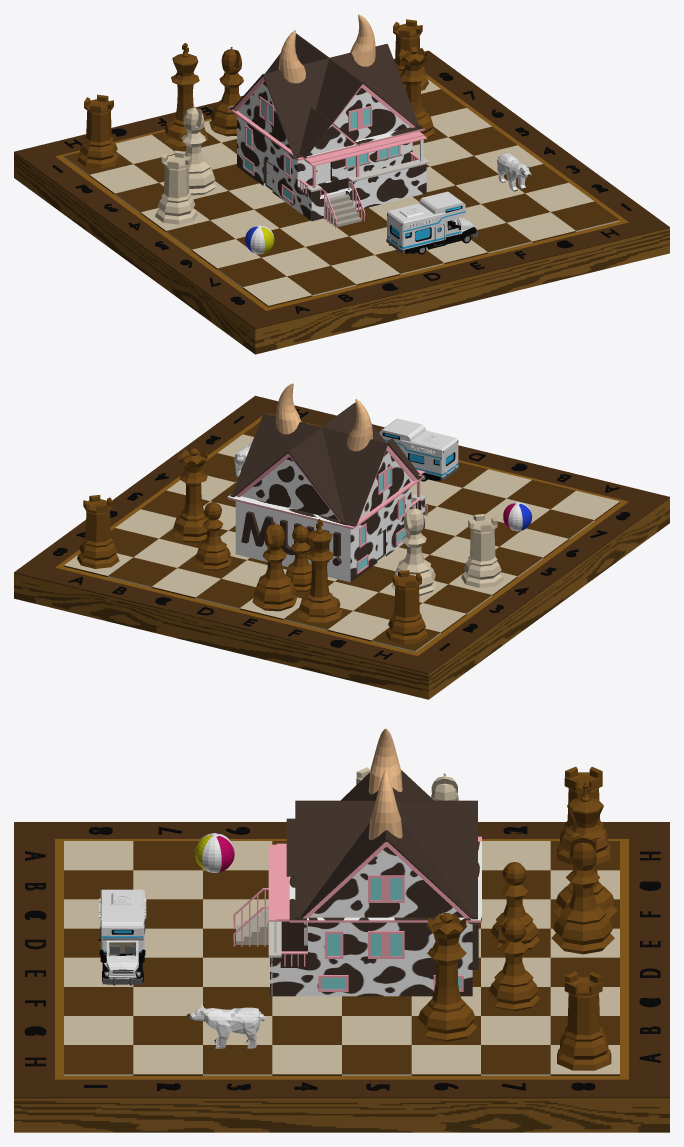
The picture shows the model from 3 angles, top to bottom: view 1: azimuth 30°, elevation 25°; view 2: azimuth 150°, elevation 25°; view 3: azimuth 270°, elevation 25°; orthographic projection. The views are drawn at different scales.
Parts seen in each view (by area): view 1: Cube.002, Cube.1242, VEHICLES_CAMPER, ANIMAL_OSO_POLAR, OBJRANDOM_BEACHBALL; view 2: Cube.002, Cube.1242, VEHICLES_CAMPER, OBJRANDOM_BEACHBALL; view 3: Cube.002, Cube.1242, VEHICLES_CAMPER, ANIMAL_OSO_POLAR, OBJRANDOM_BEACHBALL.
Boxes of the visible parts, <box> form: Cube.002: <box>14,19,669,354</box>; Cube.1242: <box>228,14,429,228</box>; VEHICLES_CAMPER: <box>386,191,478,254</box>; ANIMAL_OSO_POLAR: <box>497,153,531,191</box>; OBJRANDOM_BEACHBALL: <box>245,225,274,254</box>; Cube.002: <box>14,395,669,699</box>; Cube.1242: <box>227,383,427,582</box>; VEHICLES_CAMPER: <box>379,418,458,481</box>; OBJRANDOM_BEACHBALL: <box>503,502,532,531</box>; Cube.002: <box>14,766,669,1132</box>; Cube.1242: <box>233,728,481,996</box>; VEHICLES_CAMPER: <box>98,889,146,985</box>; ANIMAL_OSO_POLAR: <box>186,1005,264,1048</box>; OBJRANDOM_BEACHBALL: <box>195,833,234,872</box>.
Size of the model in its own units: 3981 by 1751 by 4012.
38 materials, 2 textured.
